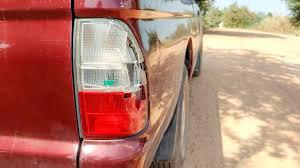Taillight-Damage: (57, 13, 156, 149)
